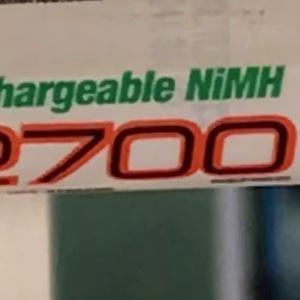NIMH: (175, 56, 294, 110)
